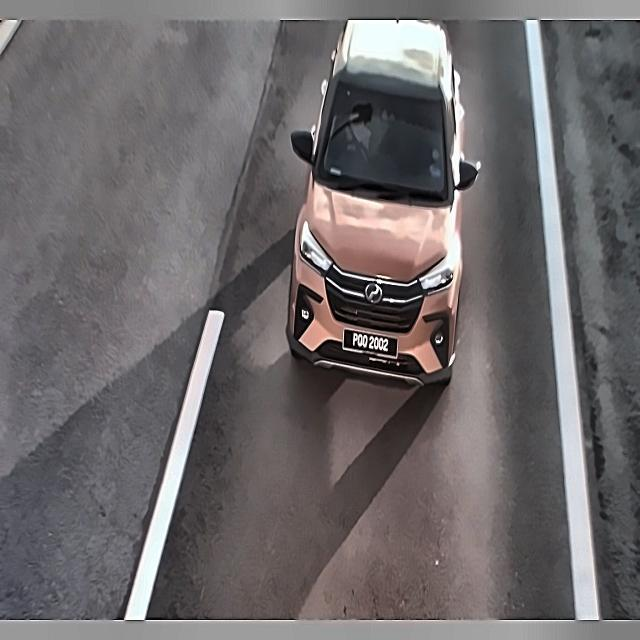car: (341, 318, 402, 368)
